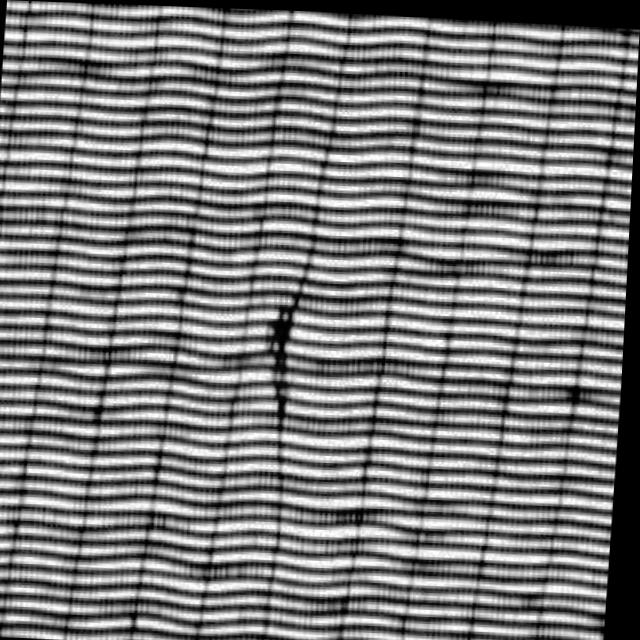Stitch: (248, 258, 335, 467)
